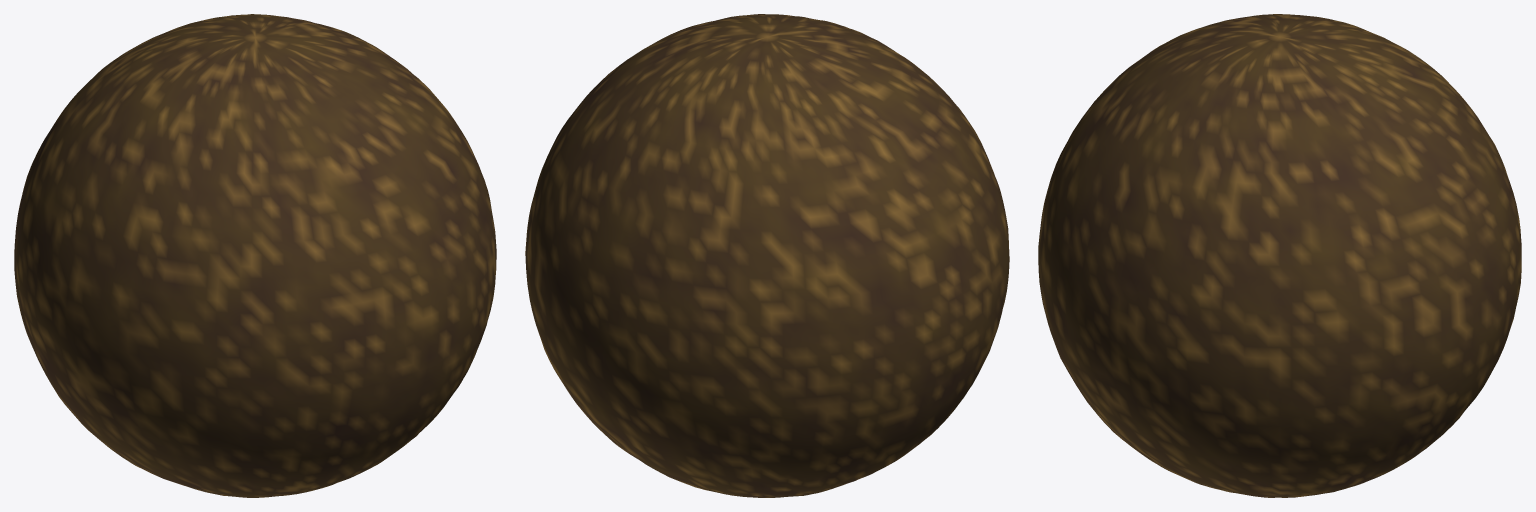
File: planet_bullion_reach.glb
3 renders of one model, left to right at view 1: azimuth 30°, elevation 25°; view 2: azimuth 150°, elevation 25°; view 3: azimuth 270°, elevation 25°, orthographic.
Visible parts, largest first — view 1: Bullion Reach mineral continents; view 2: Bullion Reach mineral continents; view 3: Bullion Reach mineral continents.
Part boxes in pixels (x1,y1,x2,y2): Bullion Reach mineral continents: [14, 14, 496, 497]; Bullion Reach mineral continents: [525, 14, 1009, 497]; Bullion Reach mineral continents: [1038, 14, 1521, 497].
Size of the model in its own units: 2 by 2 by 2.
